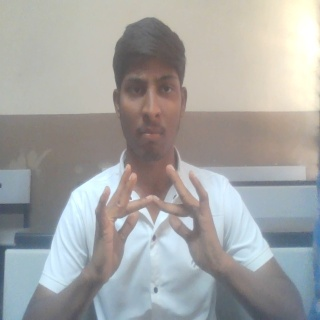Face: (108, 16, 190, 164)
Internet: (87, 162, 234, 284)
